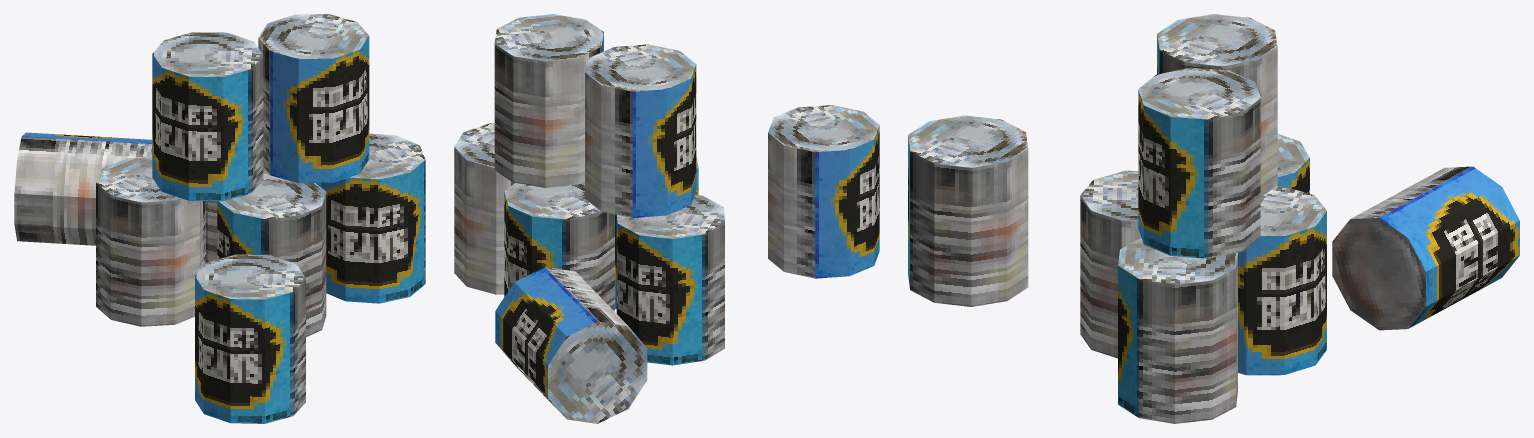
File: pile-beans.glb
3 renders of one model, left to right at view 1: azimuth 30°, elevation 25°; view 2: azimuth 150°, elevation 25°; view 3: azimuth 270°, elevation 25°, orthographic. The views are drawn at different scales.
Visible parts, largest first — view 1: pile-beans; view 2: pile-beans; view 3: pile-beans.
Part boxes in pixels (x1=…): pile-beans: x1=14, y1=14, x2=425, y2=423; pile-beans: x1=454, y1=14, x2=879, y2=423; pile-beans: x1=908, y1=14, x2=1519, y2=423.
Size of the model in its own units: 0.6574 by 0.5036 by 1.
1 material, 1 textured.
